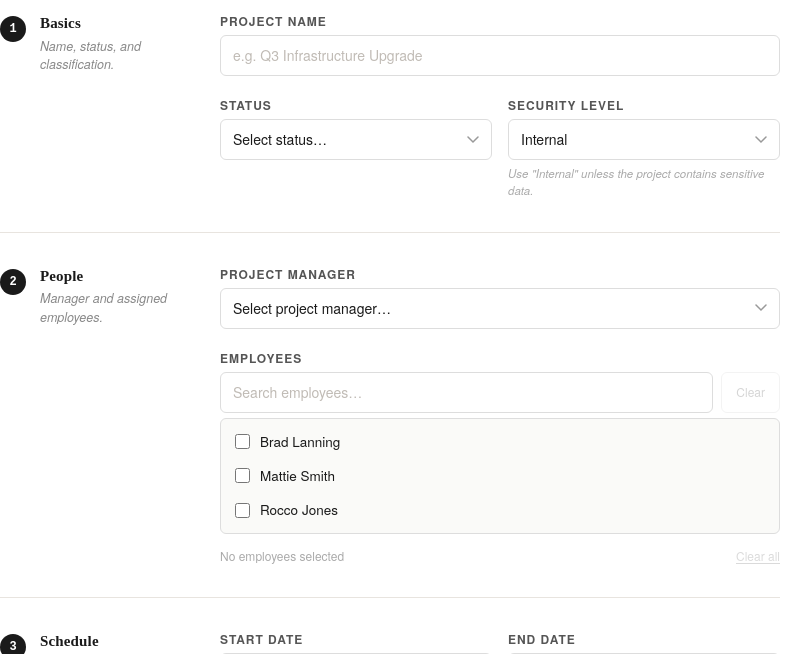
Scenario: ProjectFormFields › keeps selected employees checked after filtering and clearing the search
The image size is (797, 654).
Click the checkbox labelled "Mattie Smith".
click(242, 476)  # box x1=235 y1=468 x2=250 y2=483
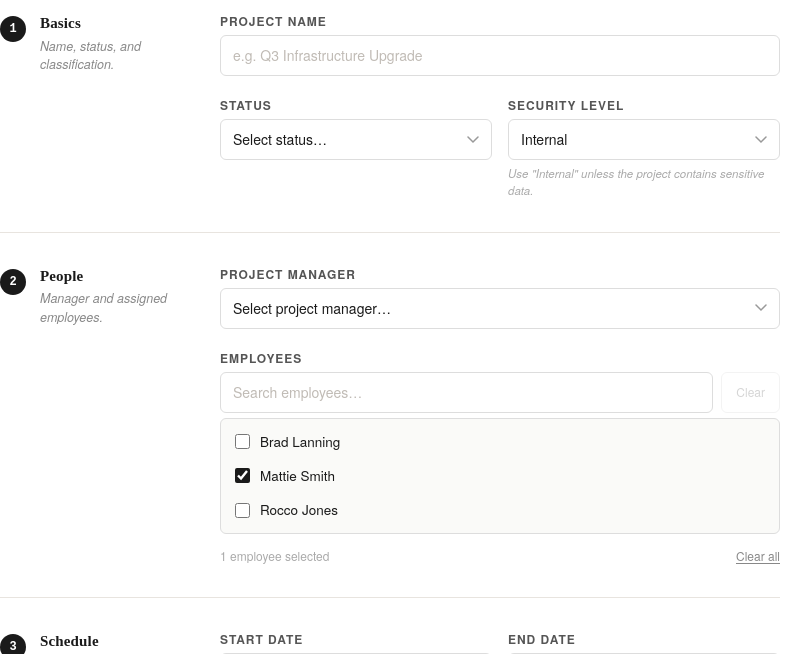
Expected: the checkbox labelled "Mattie Smith" is checked, x1=235 y1=468 x2=250 y2=483
Type "matt" into the field with placeholder "Search employees…".
click(467, 392); type("matt")  # box x1=220 y1=372 x2=713 y2=412
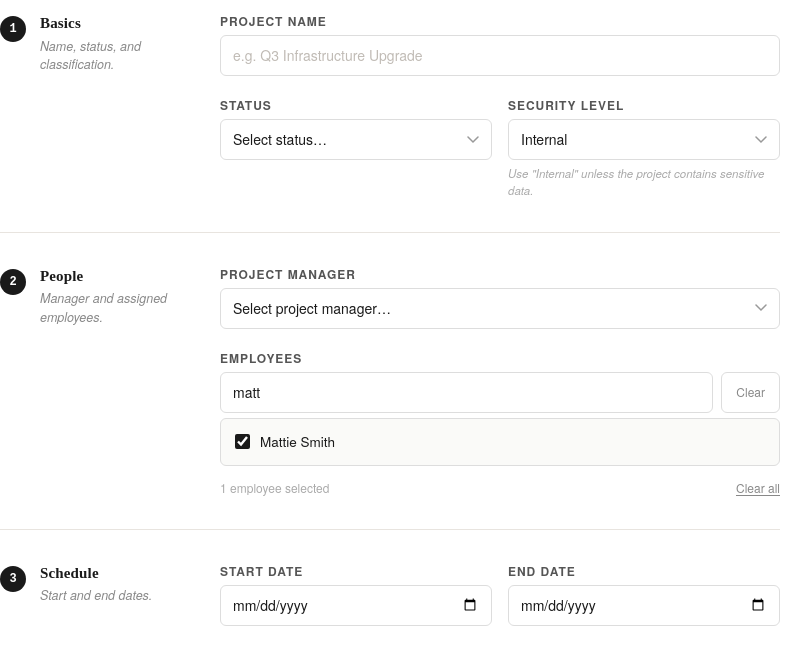
Expected: the checkbox labelled "Mattie Smith" is checked, x1=235 y1=434 x2=250 y2=449
Expected: the label labelled "Brad Lanning" is gone
Expected: the label labelled "Rocco Jones" is gone
Clear the field with placeholder "Search employees…" at (467, 392), box x1=220 y1=372 x2=713 y2=412
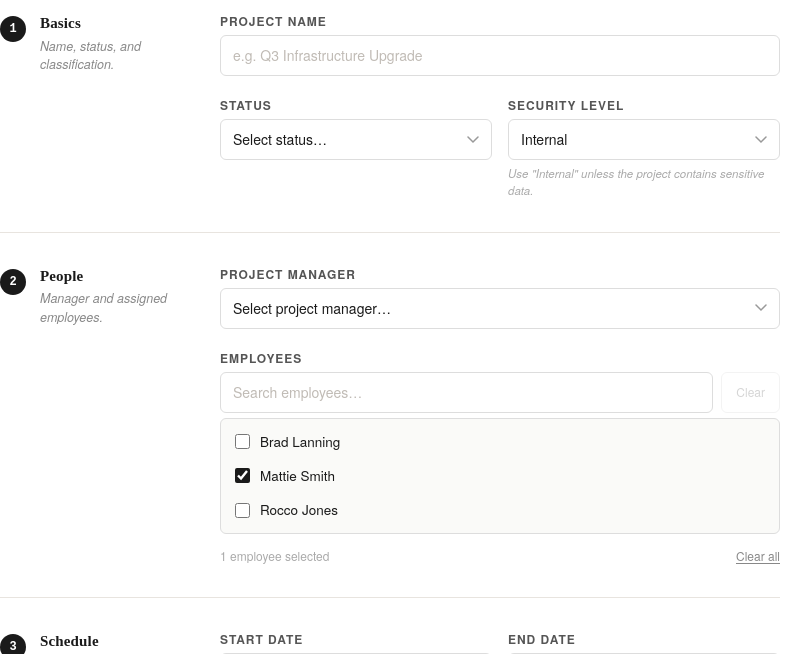
Expected: the checkbox labelled "Mattie Smith" is checked, x1=235 y1=468 x2=250 y2=483
Expected: the checkbox labelled "Brad Lanning" is not checked, x1=235 y1=434 x2=250 y2=449
Expected: the checkbox labelled "Rocco Jones" is not checked, x1=235 y1=503 x2=250 y2=518
